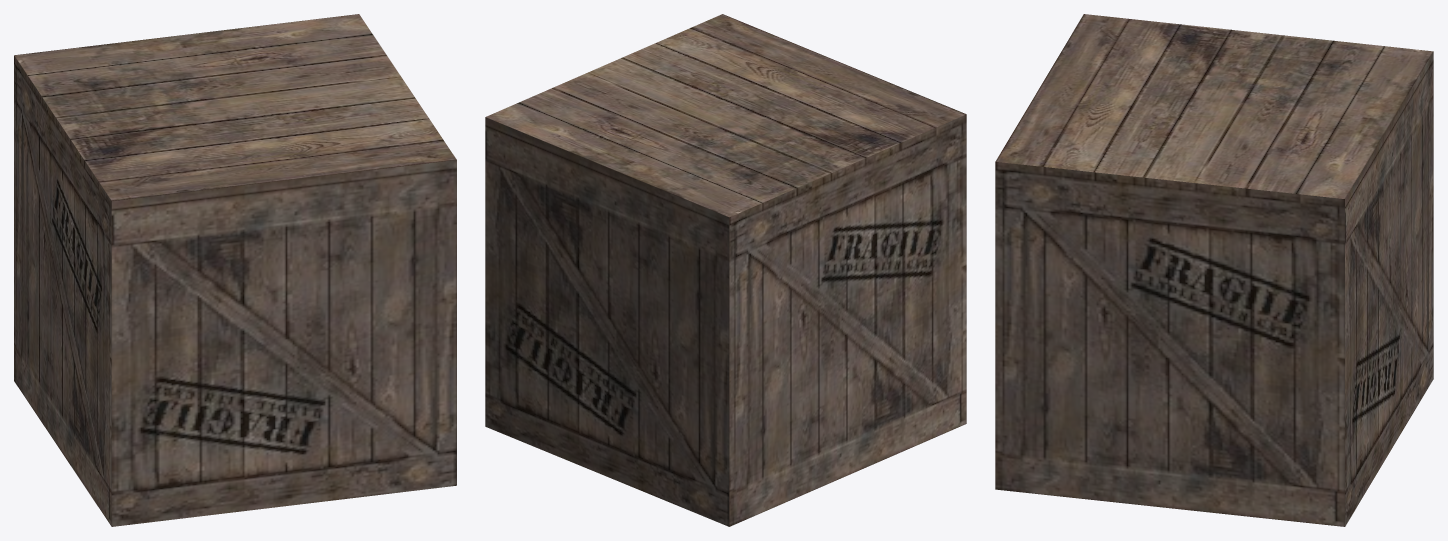
Rendered from Wooden_box_v1_LD1square (7).001.glb.
3 renders of one model, left to right at view 1: azimuth 30°, elevation 25°; view 2: azimuth 150°, elevation 25°; view 3: azimuth 270°, elevation 25°, orthographic. The views are drawn at different scales.
Parts seen in each view (by area): view 1: Wooden_box_v1_LD1square (7).001; view 2: Wooden_box_v1_LD1square (7).001; view 3: Wooden_box_v1_LD1square (7).001.
Part boxes in pixels (<box>): Wooden_box_v1_LD1square (7).001: <box>14,14,456,526</box>; Wooden_box_v1_LD1square (7).001: <box>485,14,966,526</box>; Wooden_box_v1_LD1square (7).001: <box>995,14,1433,526</box>.
Size of the model in its own units: 0.9842 by 0.8124 by 0.9842.
Materials: 1 (1 with a texture image).
